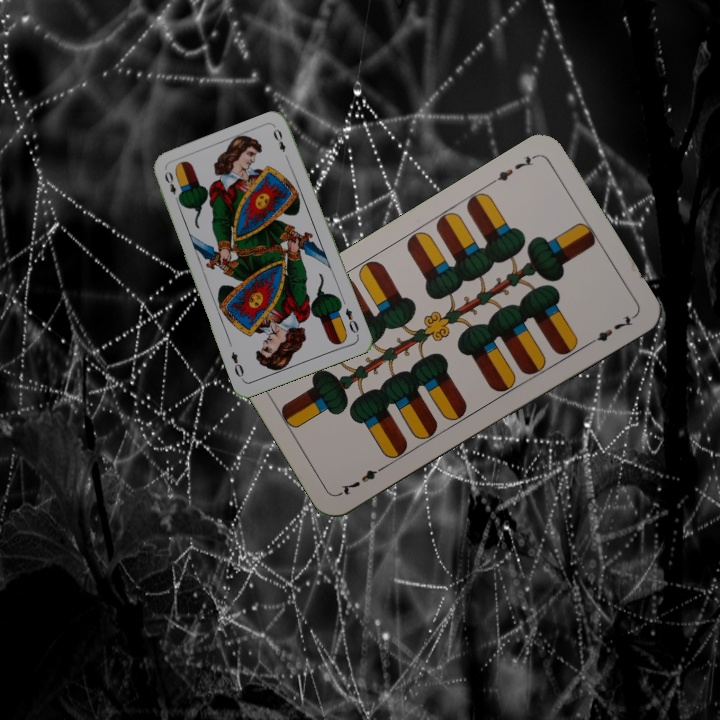E7: (336, 461, 389, 498), (486, 150, 539, 187)
EO: (160, 167, 183, 205), (341, 304, 361, 336)
